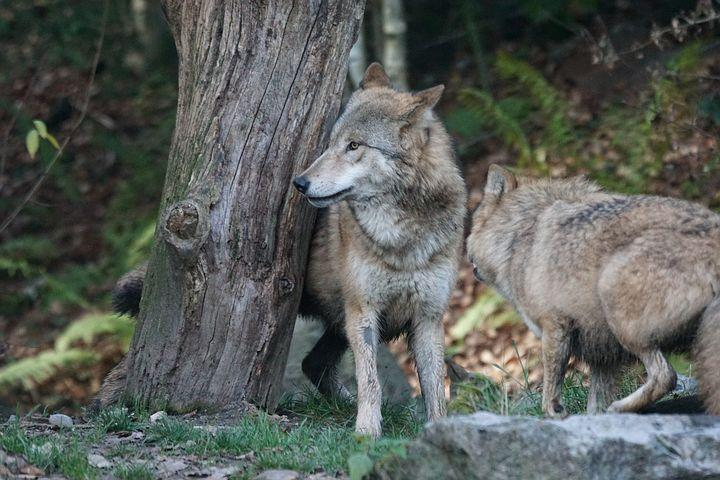Wolf: (295, 62, 463, 438), (468, 166, 718, 418)
